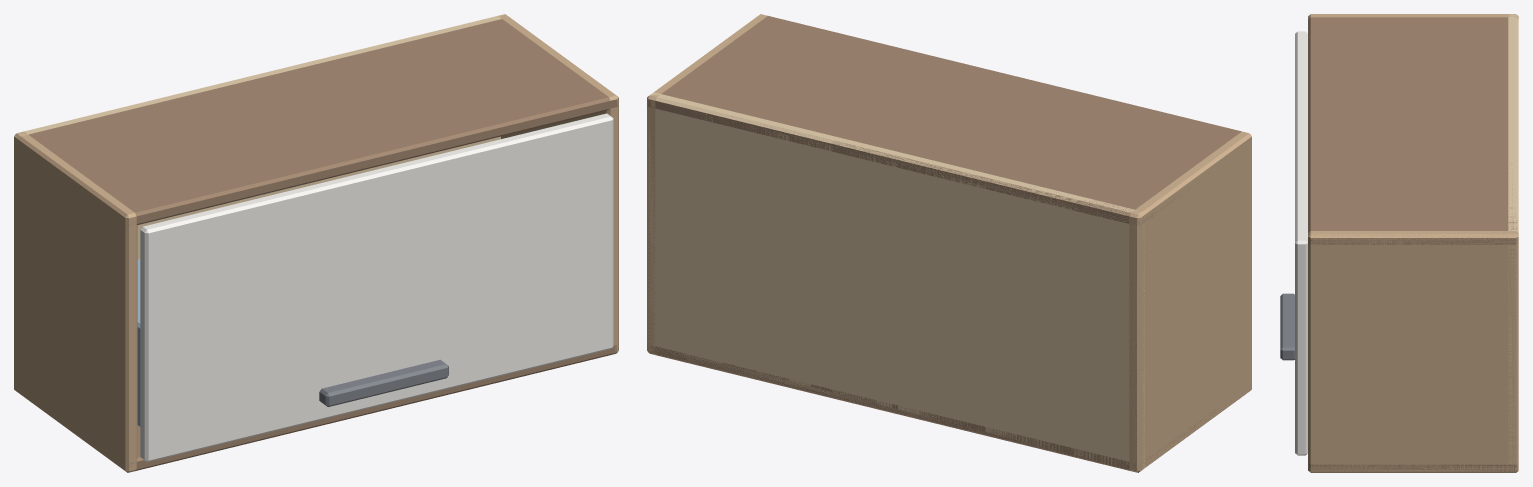
The model's file is FlapUp_2x1.glb.
The picture shows the model from 3 angles, left to right: view 1: azimuth 30°, elevation 25°; view 2: azimuth 150°, elevation 25°; view 3: azimuth 270°, elevation 25°; orthographic projection. The views are drawn at different scales.
Visible parts, largest first — view 1: WallSysFlap21_Flap, WallSysFlap21_Body; view 2: WallSysFlap21_Body; view 3: WallSysFlap21_Body, WallSysFlap21_Flap.
Part boxes in pixels (bbox=[...]): WallSysFlap21_Flap: bbox=[140, 113, 613, 462]; WallSysFlap21_Body: bbox=[14, 14, 618, 472]; WallSysFlap21_Body: bbox=[647, 14, 1251, 472]; WallSysFlap21_Body: bbox=[1308, 14, 1518, 472]; WallSysFlap21_Flap: bbox=[1280, 31, 1307, 455].
Size of the model in its own units: 0.8 by 0.4 by 0.3625.
